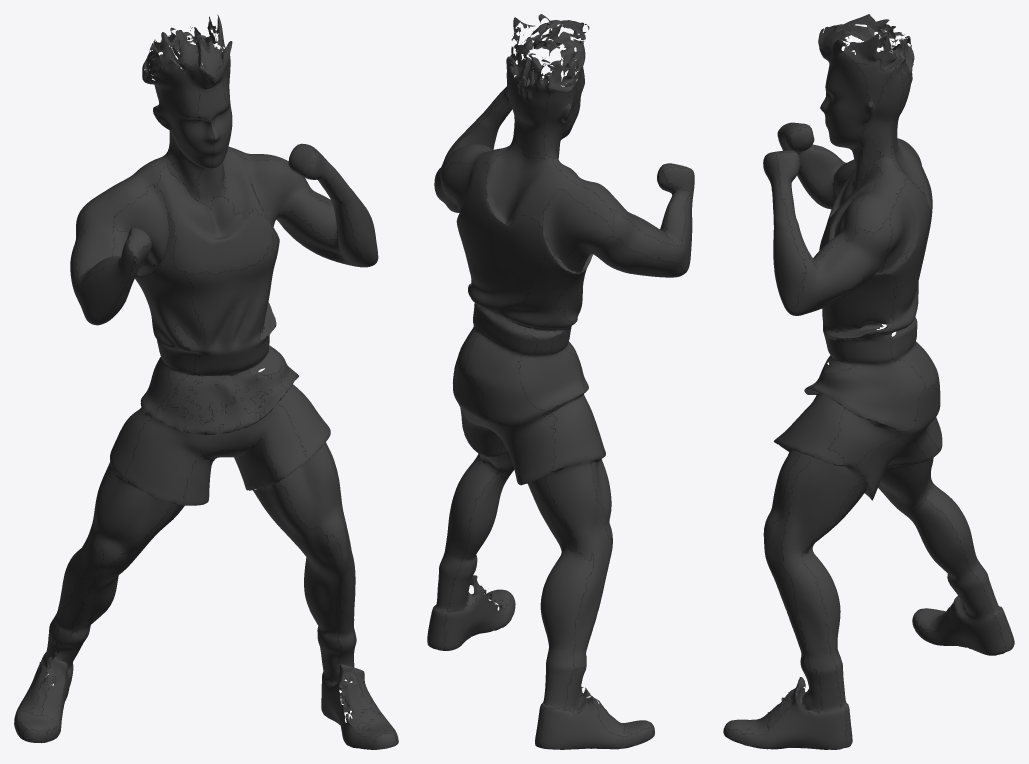
The model's file is trellis2-concept2-high.mq.xatlas.glb.
3 renders of one model, left to right at view 1: azimuth 30°, elevation 25°; view 2: azimuth 150°, elevation 25°; view 3: azimuth 270°, elevation 25°, orthographic. The views are drawn at different scales.
Parts seen in each view (by area): view 1: geometry_0; view 2: geometry_0; view 3: geometry_0.
Part boxes in pixels (x1,y1,x2,y2): geometry_0: (14, 14, 398, 749); geometry_0: (427, 14, 694, 749); geometry_0: (723, 14, 1014, 749).
Bounding box in the file's own units: 0.4223 × 0.9991 × 0.3933.
Materials: 1 (1 with a texture image).
